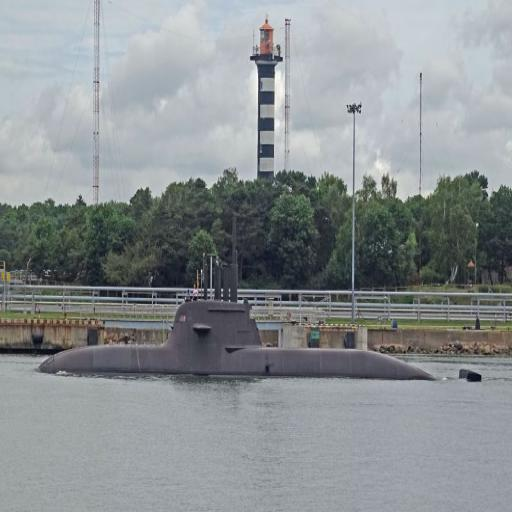submarine: (38, 212, 485, 376)
